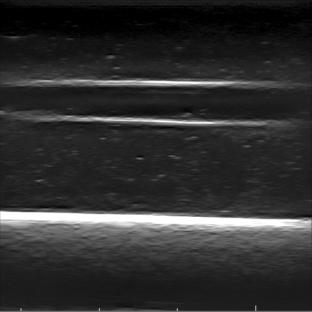vessel: (3, 78, 305, 128)
